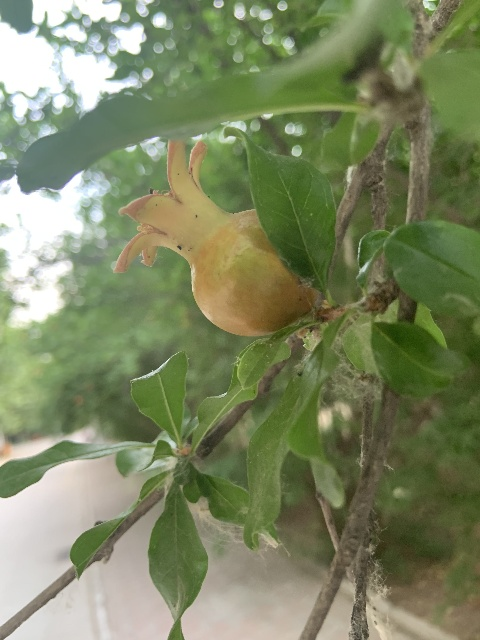early-fruit: (111, 136, 316, 337)
